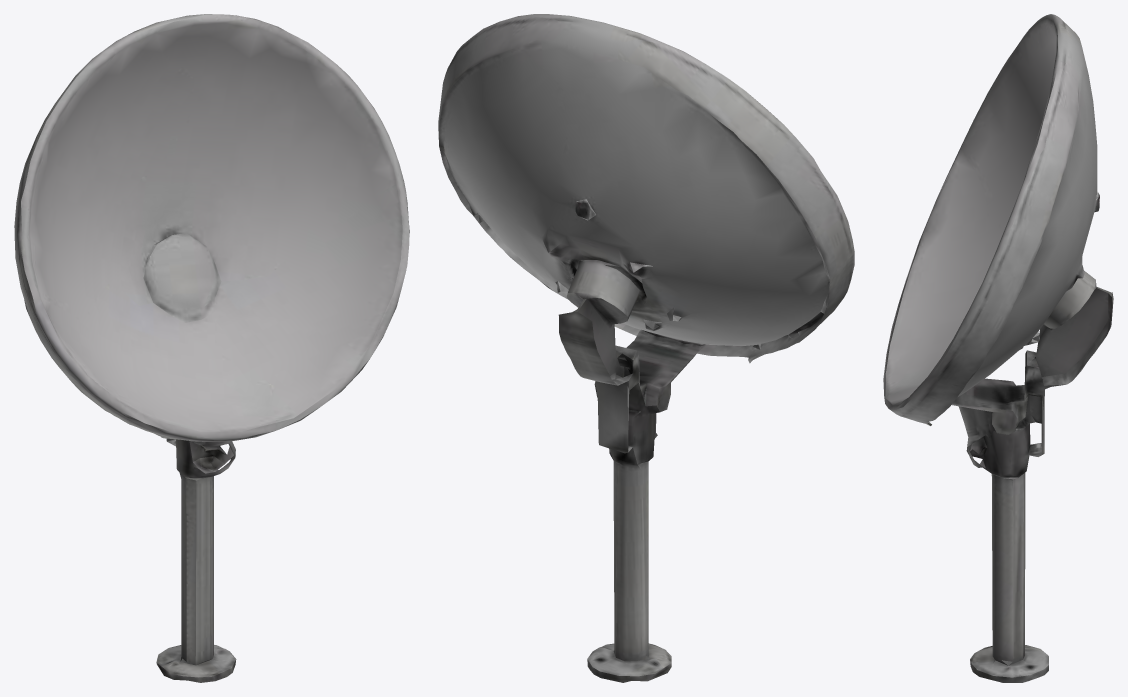
Rendered from dish.glb.
3 renders of one model, left to right at view 1: azimuth 30°, elevation 25°; view 2: azimuth 150°, elevation 25°; view 3: azimuth 270°, elevation 25°, orthographic. The views are drawn at different scales.
Visible parts, largest first — view 1: dish; view 2: dish; view 3: dish.
Part boxes in pixels (x1,y1,x2,y2): dish: (14, 14, 409, 682); dish: (438, 14, 854, 682); dish: (883, 14, 1113, 682).
Size of the model in its own units: 1.14 by 1.8 by 0.5962.
1 material, 1 textured.
